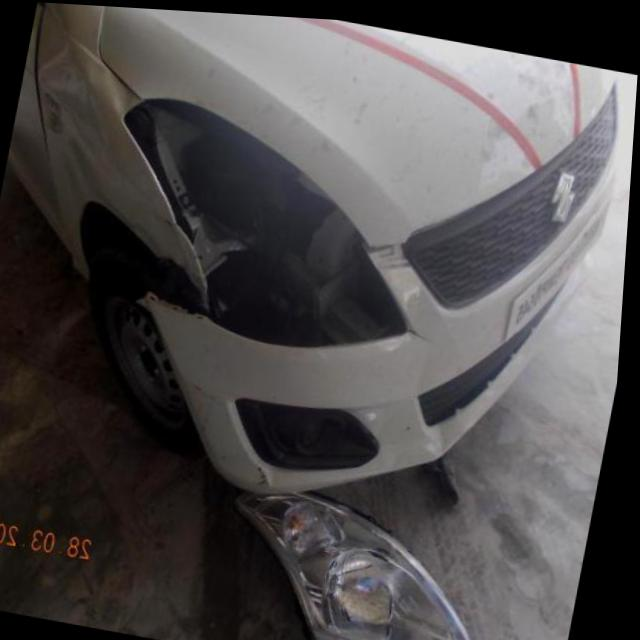Car-Damage: (87, 80, 477, 379), (24, 25, 121, 158), (477, 83, 578, 205), (173, 370, 228, 447), (424, 415, 466, 460), (253, 456, 280, 492)
